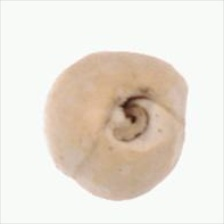L3: (105, 90, 157, 148)
L4: (45, 50, 189, 201)
